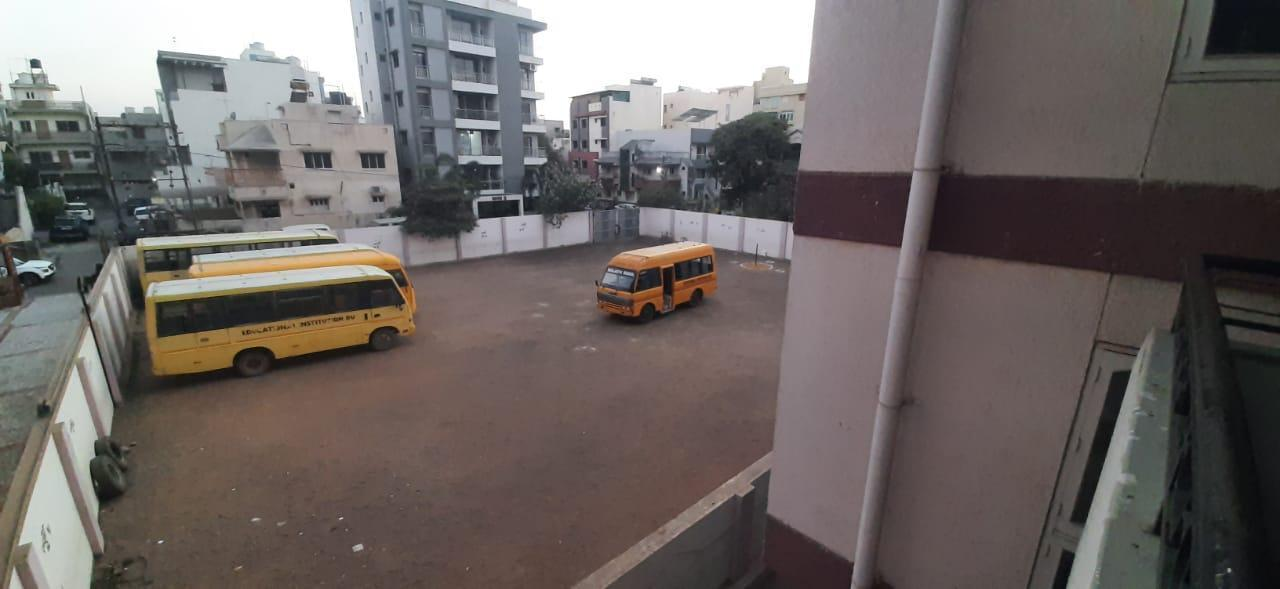Bus: (148, 269, 416, 372), (588, 225, 740, 341), (195, 257, 429, 293), (132, 225, 342, 258)
